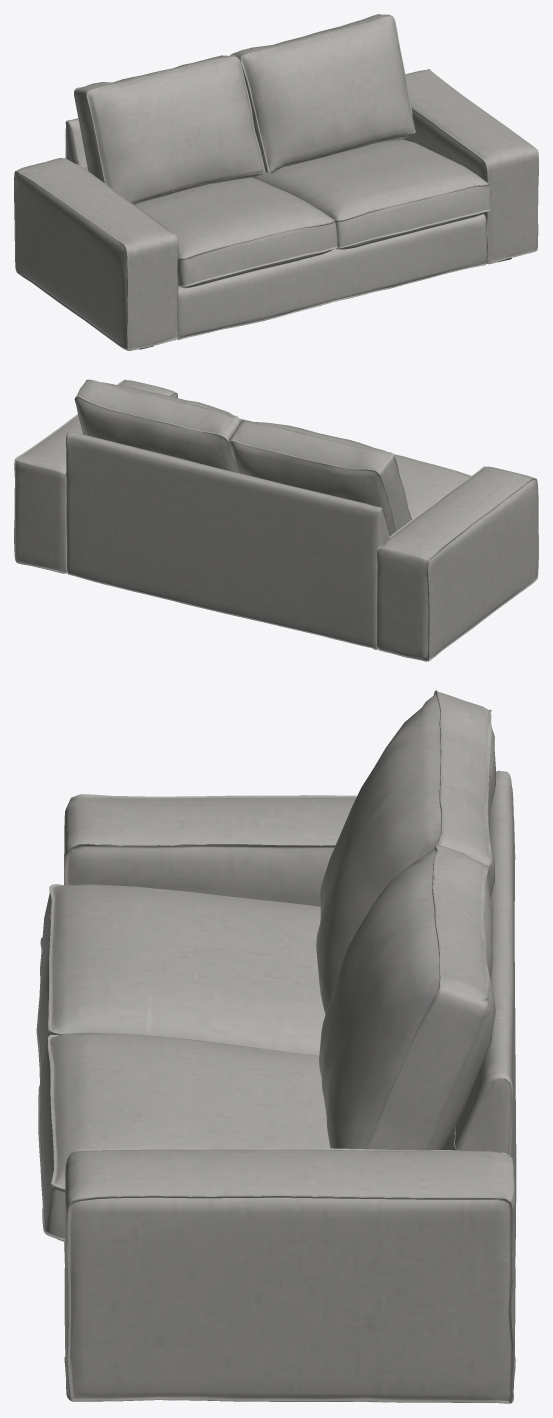
The model's file is cover-tallmyra-bialy-czarny.glb.
The picture shows the model from 3 angles, top to bottom: view 1: azimuth 30°, elevation 25°; view 2: azimuth 150°, elevation 25°; view 3: azimuth 270°, elevation 25°; orthographic projection. The views are drawn at different scales.
Visible parts, largest first — view 1: Mesh_0; view 2: Mesh_0; view 3: Mesh_0.
Part boxes in pixels (bbox=[...]): Mesh_0: bbox=[14, 14, 538, 350]; Mesh_0: bbox=[14, 379, 538, 661]; Mesh_0: bbox=[36, 690, 516, 1403].
Size of the model in its own units: 1.9 by 0.8299 by 0.9501.
Materials: 2 (2 with a texture image).
